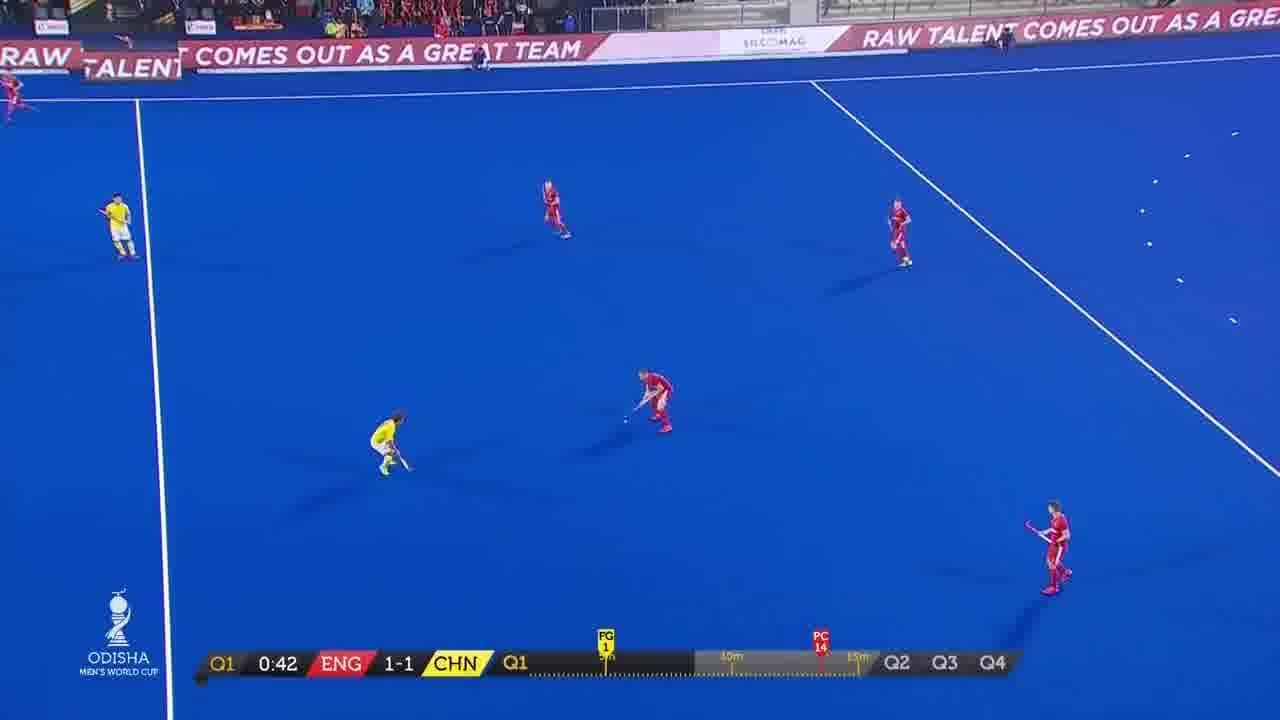ball: (622, 418, 630, 426)
